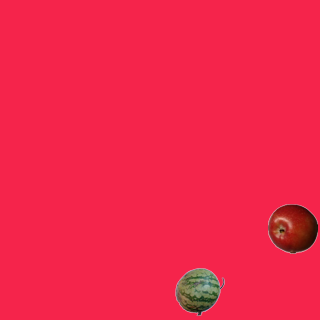Apple Braeburn: (267, 203, 317, 253)
Watermelon: (174, 266, 224, 316)
